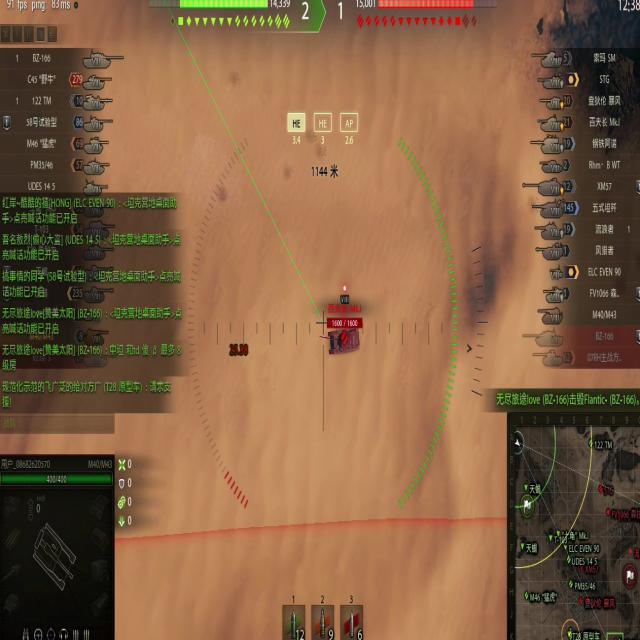tank: (320, 312, 364, 362)
